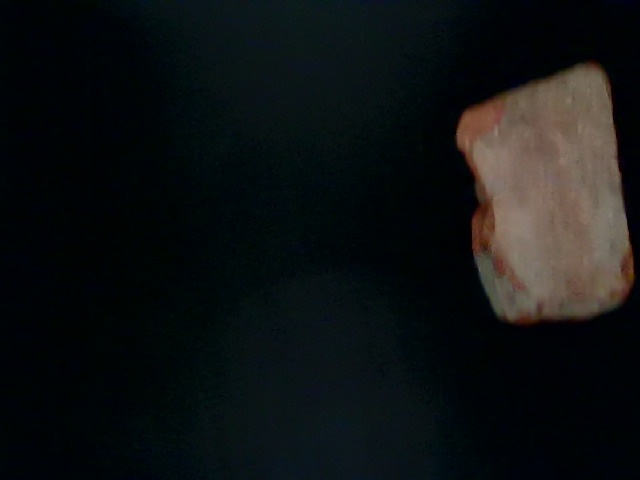KHSLJ: (1, 206, 305, 475)
